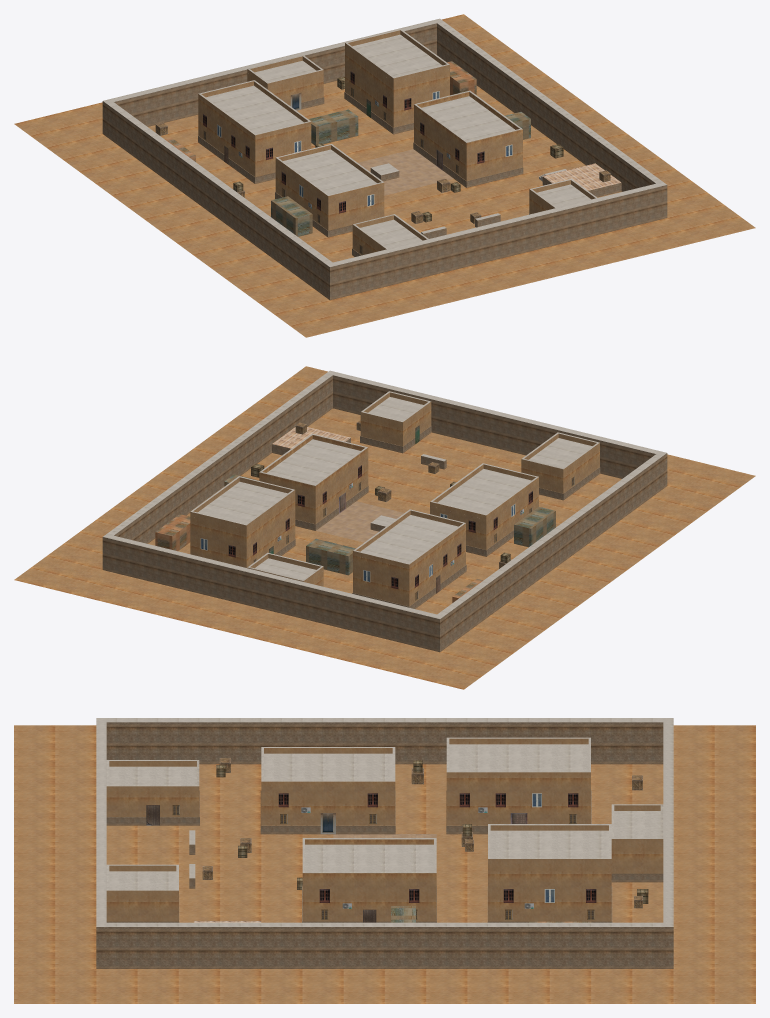
File: map_desert.glb
The picture shows the model from 3 angles, top to bottom: view 1: azimuth 30°, elevation 25°; view 2: azimuth 150°, elevation 25°; view 3: azimuth 270°, elevation 25°; orthographic projection. The views are drawn at different scales.
Visible parts, largest first — view 1: sand, stone, plaster, concrete, decals, rustBlue, paving, planks, rust; view 2: sand, stone, plaster, concrete, decals, rustBlue, paving, rust, planks; view 3: sand, stone, plaster, concrete, decals.
Boxes of the visible parts, left/top/right/bottom form: sand: left=14, top=14, right=755, bottom=337; stone: left=102, top=23, right=667, bottom=300; plaster: left=198, top=30, right=595, bottom=255; concrete: left=103, top=18, right=666, bottom=266; decals: left=155, top=71, right=610, bottom=254; rustBlue: left=271, top=109, right=530, bottom=236; paving: left=358, top=149, right=453, bottom=195; planks: left=543, top=163, right=620, bottom=190; rust: left=165, top=61, right=476, bottom=161; sand: left=14, top=366, right=755, bottom=689; stone: left=102, top=375, right=667, bottom=652; plaster: left=190, top=392, right=599, bottom=606; concrete: left=103, top=370, right=666, bottom=618; decals: left=200, top=420, right=574, bottom=600; rustBlue: left=224, top=474, right=555, bottom=575; paving: left=316, top=501, right=404, bottom=542; rust: left=155, top=514, right=483, bottom=602; planks: left=272, top=427, right=350, bottom=448; sand: left=14, top=725, right=755, bottom=1003; stone: left=96, top=722, right=673, bottom=968; plaster: left=106, top=738, right=663, bottom=921; concrete: left=96, top=718, right=673, bottom=926; decals: left=146, top=758, right=648, bottom=922.
Bounding box in the file's own units: 64 × 7.6 × 72.
9 materials, 9 textured.
